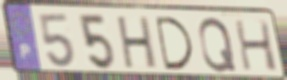5: (75, 12, 118, 72), (36, 12, 78, 70)
D: (153, 15, 196, 72)
H: (232, 18, 280, 73), (116, 15, 159, 71)
Q: (196, 15, 238, 74)
